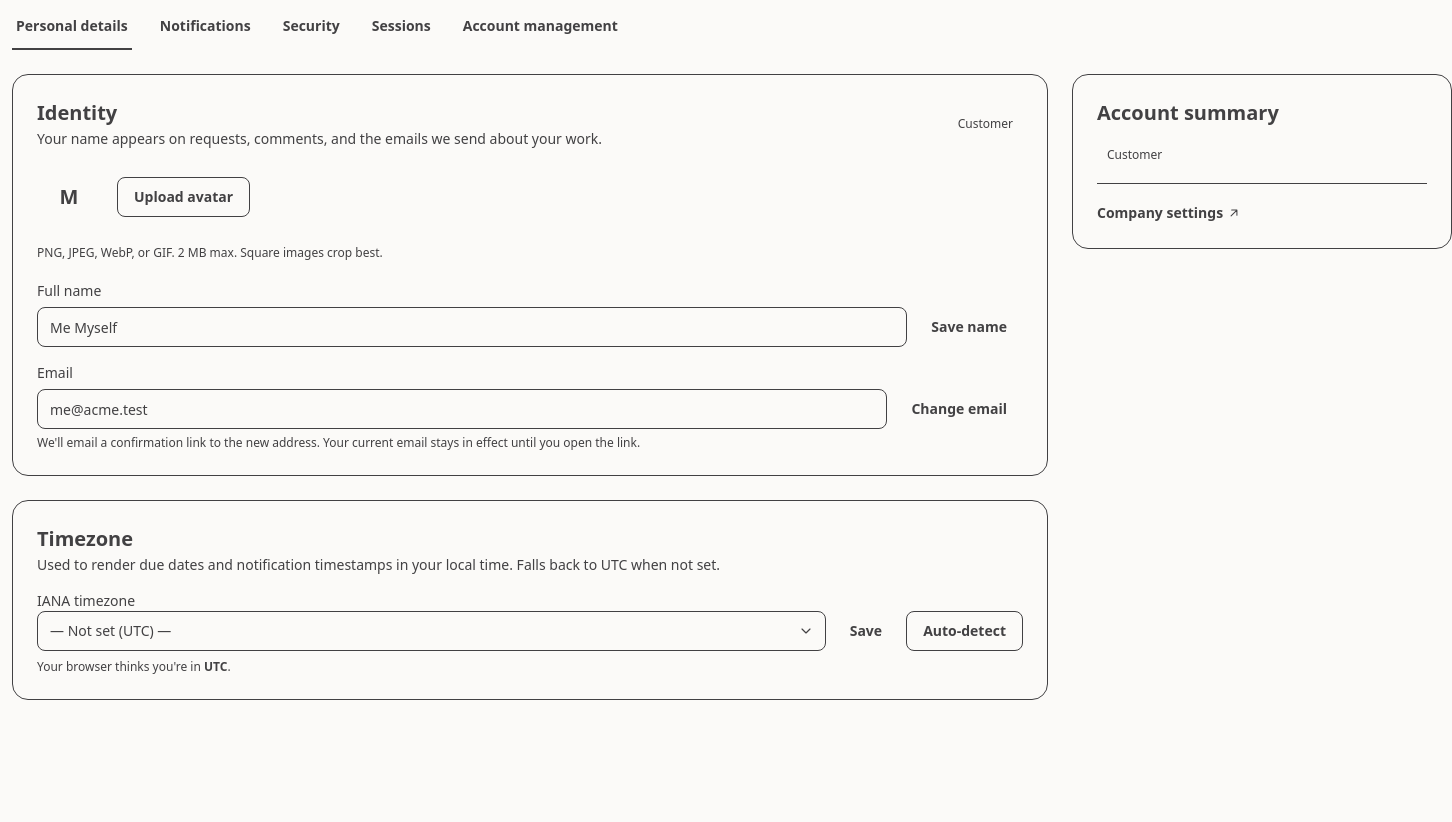
ProfileForm surfaces › keeps delete away from the personal form
Expected: the heading "Identity" is shown, [37,99,117,126]
Expected: the heading "Delete account" is not shown
Click the tab "Account management" at (540, 31), box [459,12,622,50]
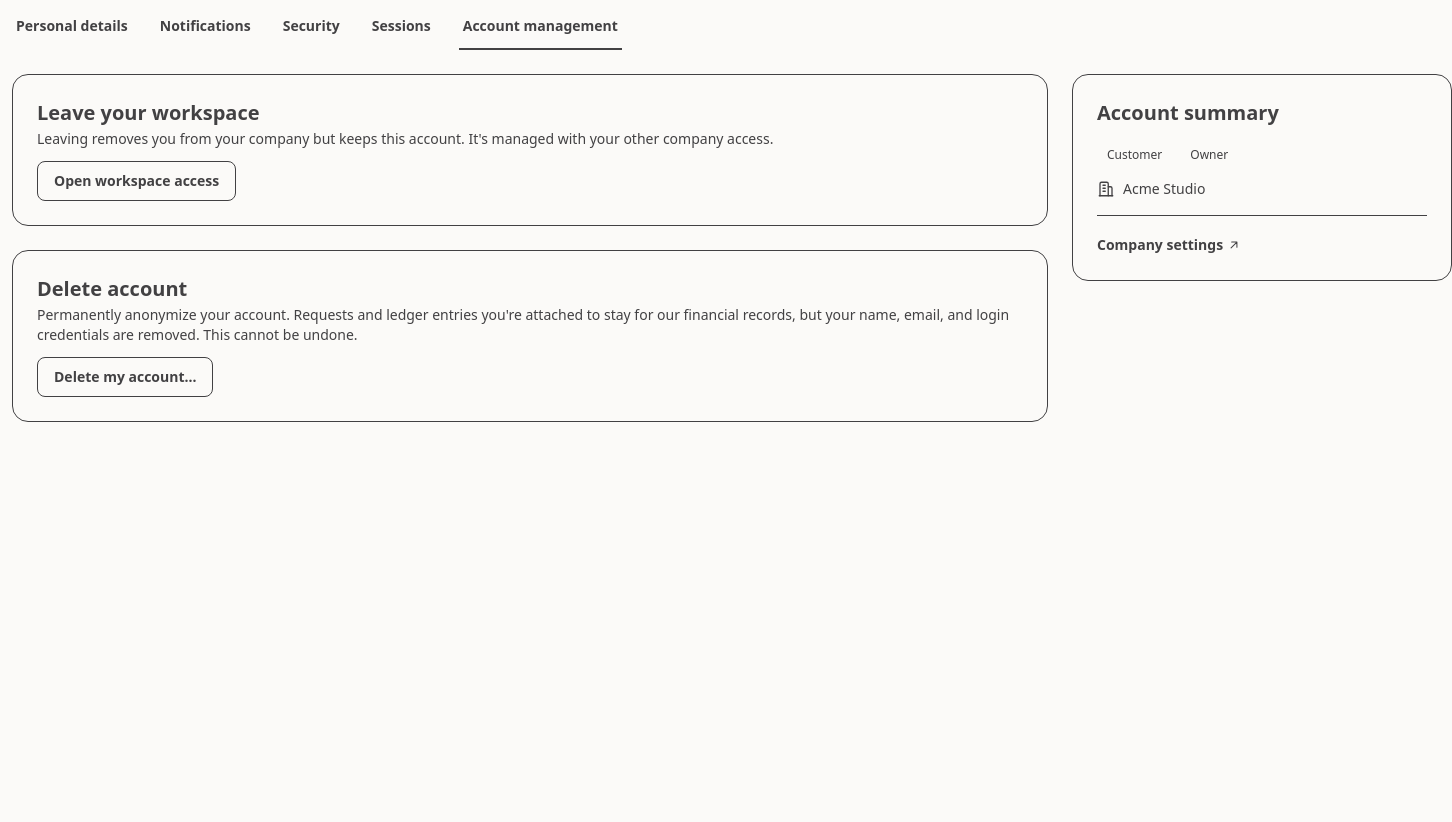
Now the heading "Delete account" is shown, box [37,275,187,302]
